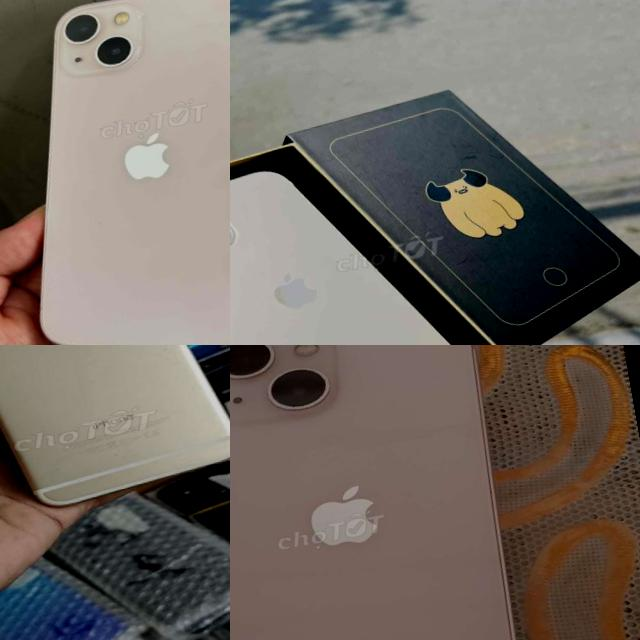gen_12_13: (230, 345, 561, 640), (0, 0, 230, 345), (230, 170, 450, 345)
gen_6: (0, 345, 230, 504)
